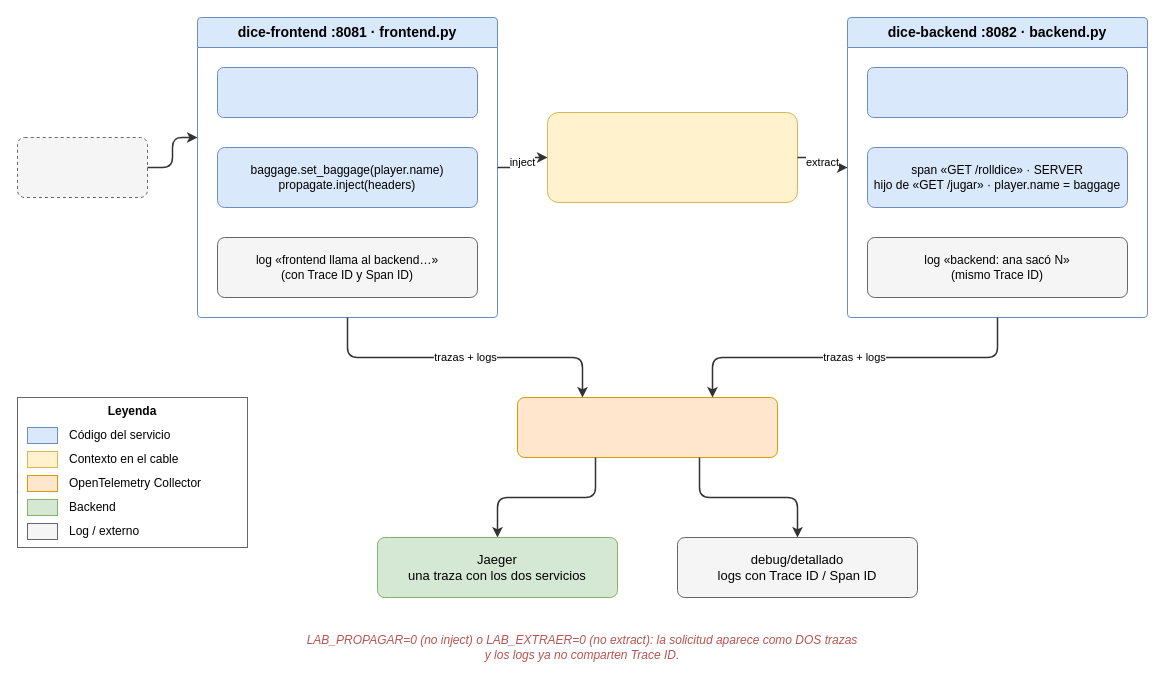
Some shapes in this 1165 by 685 pixel diagram are drawn without their labels. The centre of each missing label's shape, as x and y in pixels:
"curl /jugar?player=ana" goes at [82,167].
"Headers HTTP traceparent: 00-‹trace_id›-‹span_id›-03 baggage: player.name=ana" goes at [672,157].
"otel-collector OTLP gRPC :4317" goes at [647,427].
"propagate.extract(request.headers)" goes at [997,92].
"span «GET /jugar» · SERVER" goes at [347,92].
